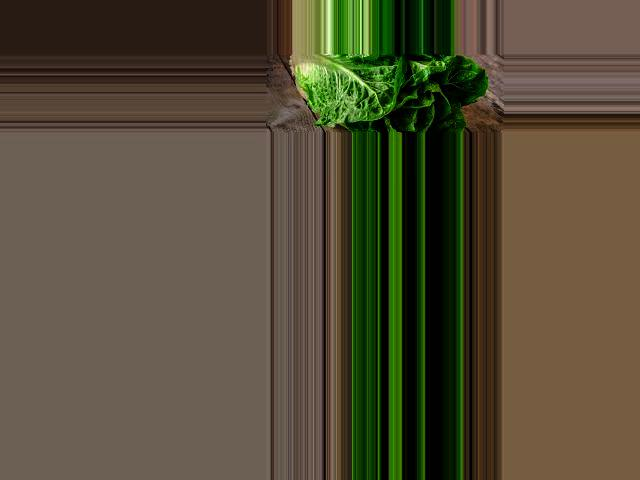lettuce: (295, 55, 476, 133)
